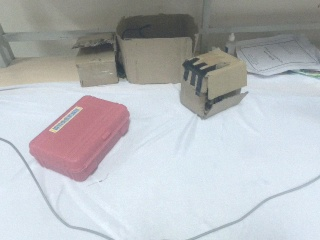box: (27, 95, 132, 181), (117, 14, 200, 85), (180, 48, 247, 118), (73, 33, 119, 86)
